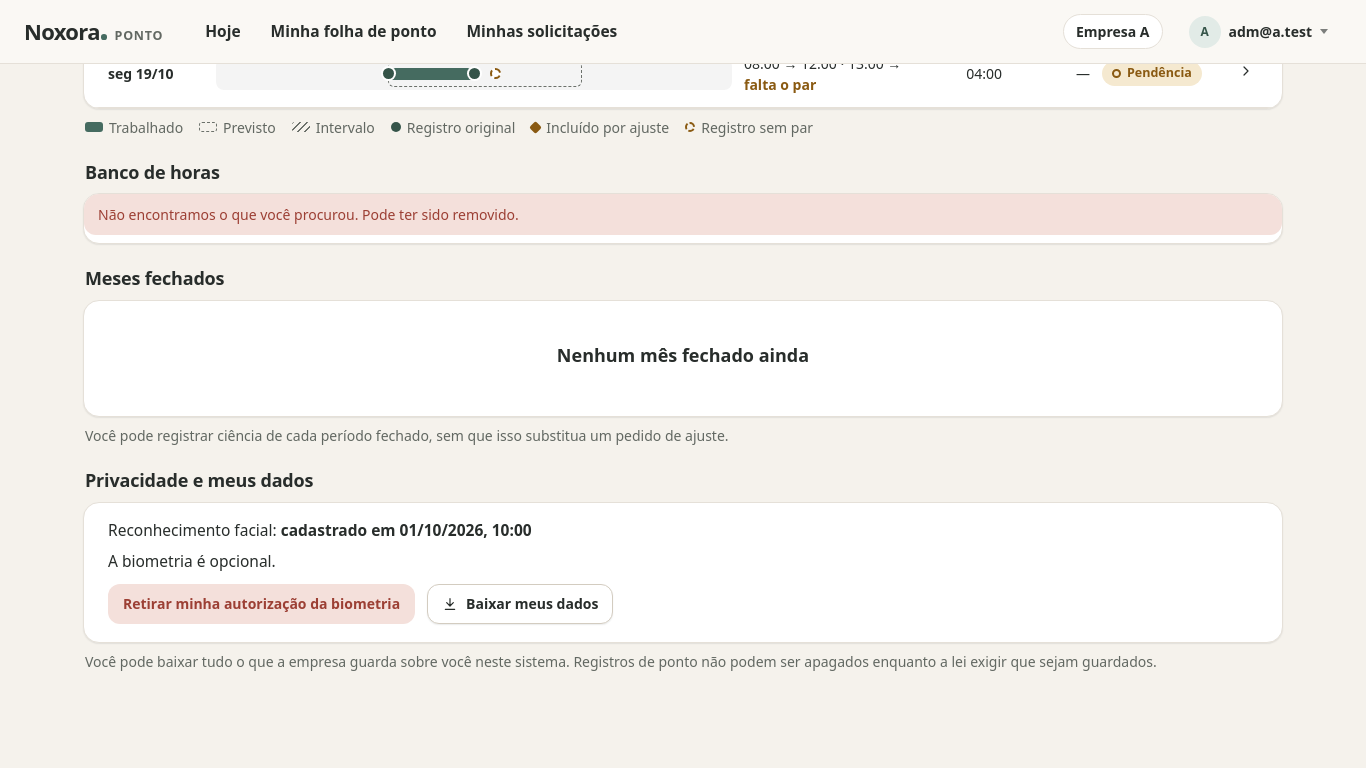
Privacidade e configurações da empresa › funcionário vê a situação da biometria, retira a autorização e baixa os próprios dados
(page scrolled)
Expected: the text "cadastrado em 01/10/2026, 10:00" is shown, [281,519,532,541]
Click the button "Retirar minha autorização da biometria". click: {"x": 262, "y": 604}
box: [108,584,415,624]
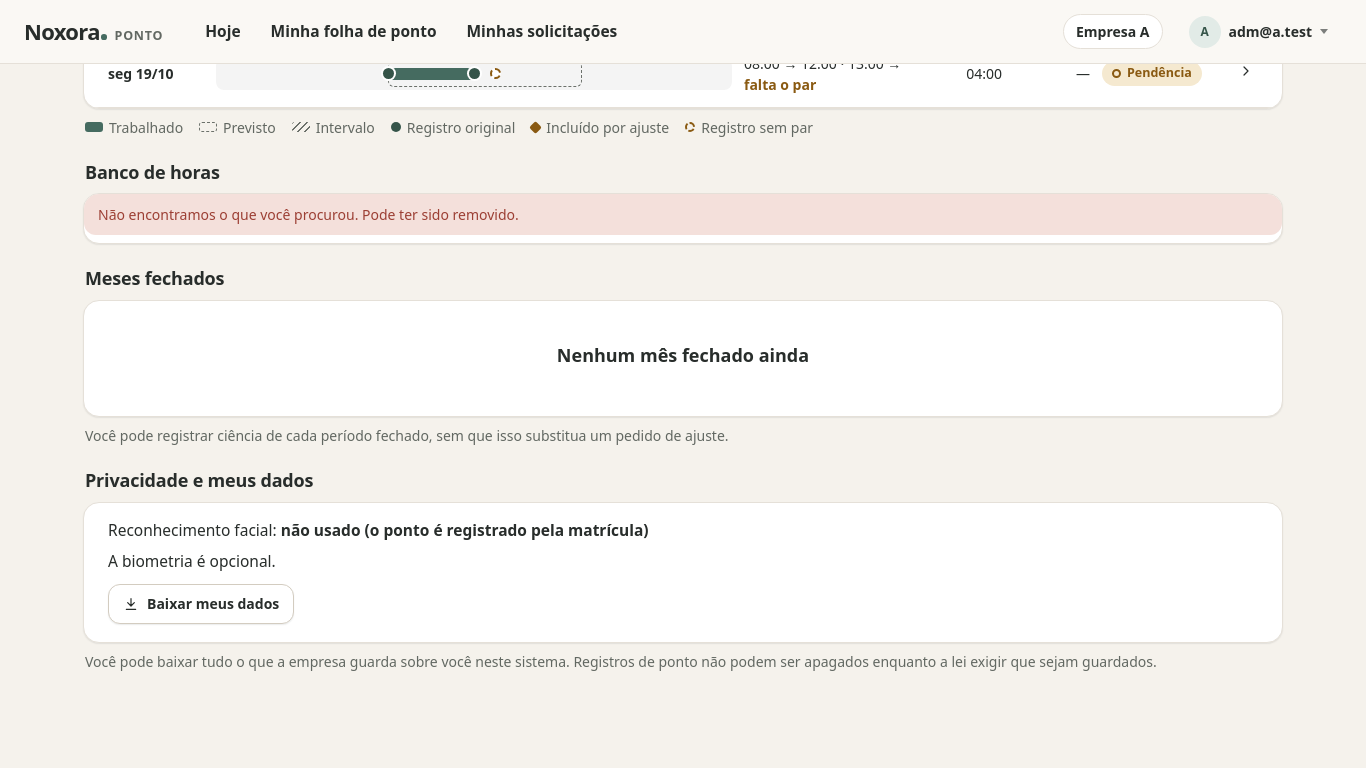
Expected: the text "não usado (o ponto é registrado pela matrícula)" is shown, [281,519,649,541]
